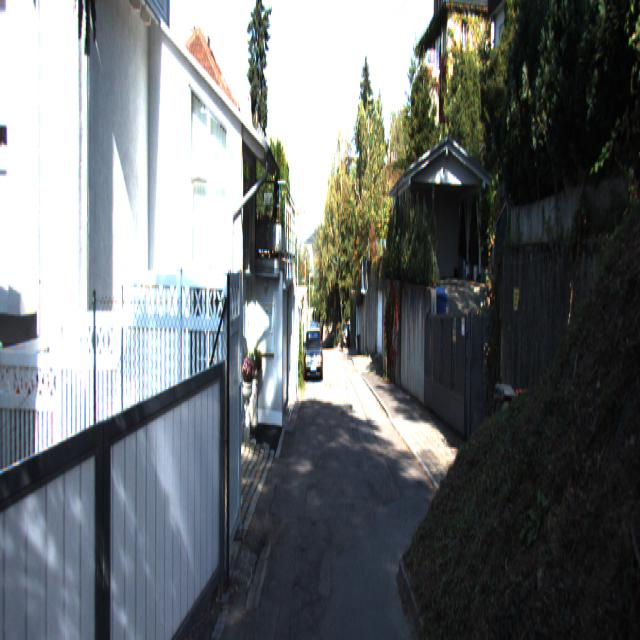Car: (304, 325, 323, 383)
